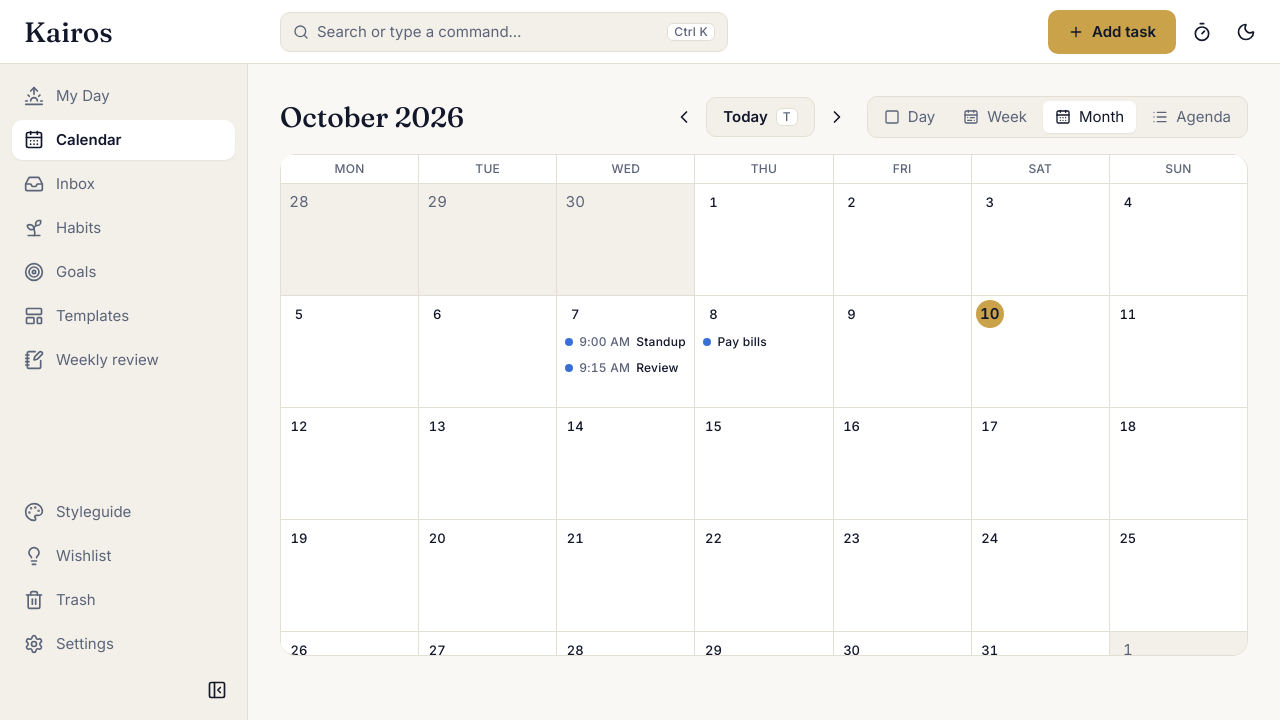
Test case: Calendar › opens a month day in the Day view
Click the button named "Open Thursday 8 October".
click(713, 314)  # box top-left (699, 300), bottom-right (727, 328)
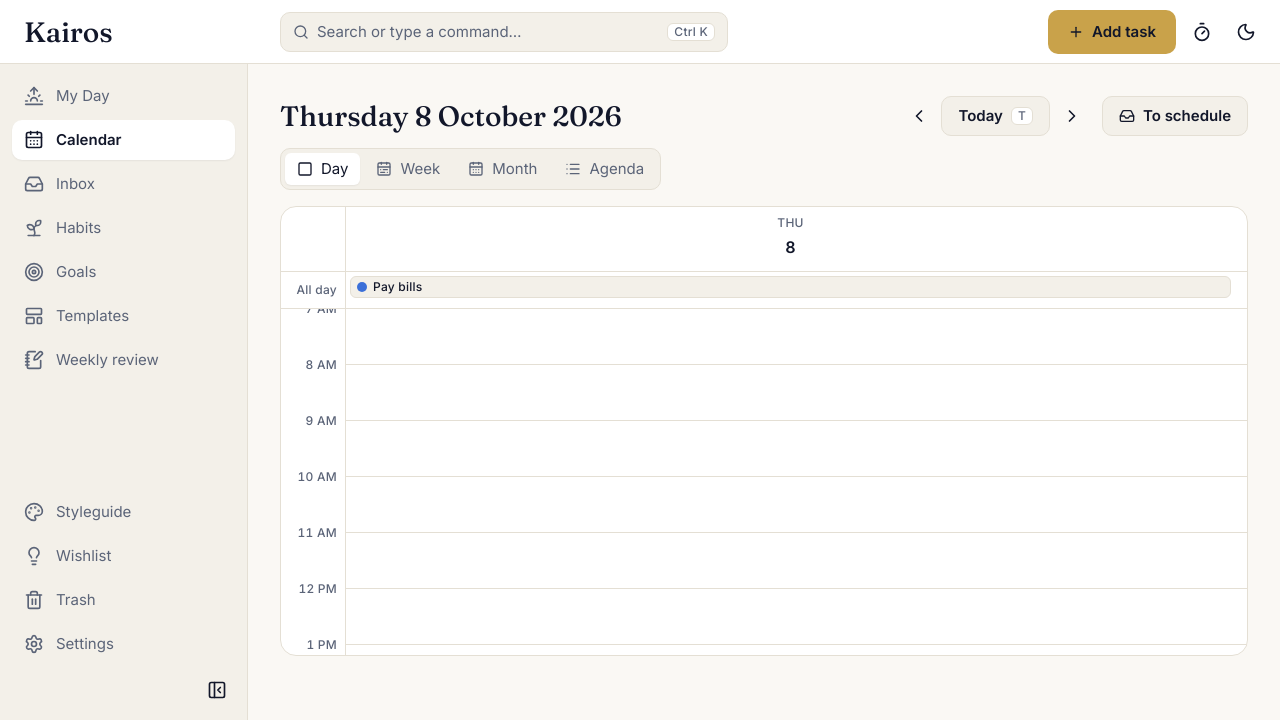
Check: the button "Pay bills" is shown, box top-left (350, 276), bottom-right (1231, 298)
Check: the heading reads "Thursday 8 October 2026", box top-left (280, 99), bottom-right (622, 133)
